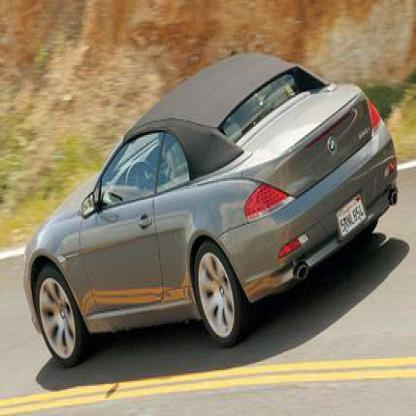Vehicle: (25, 54, 400, 373)
